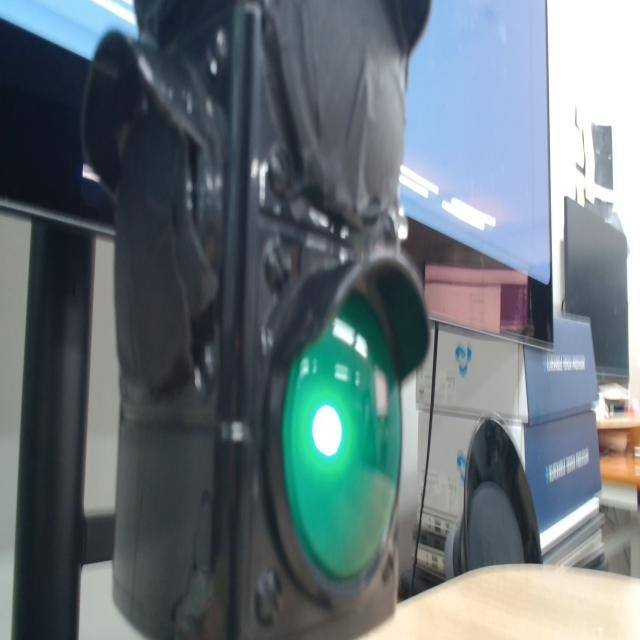green_light: (283, 294, 400, 580), (312, 405, 341, 456)
